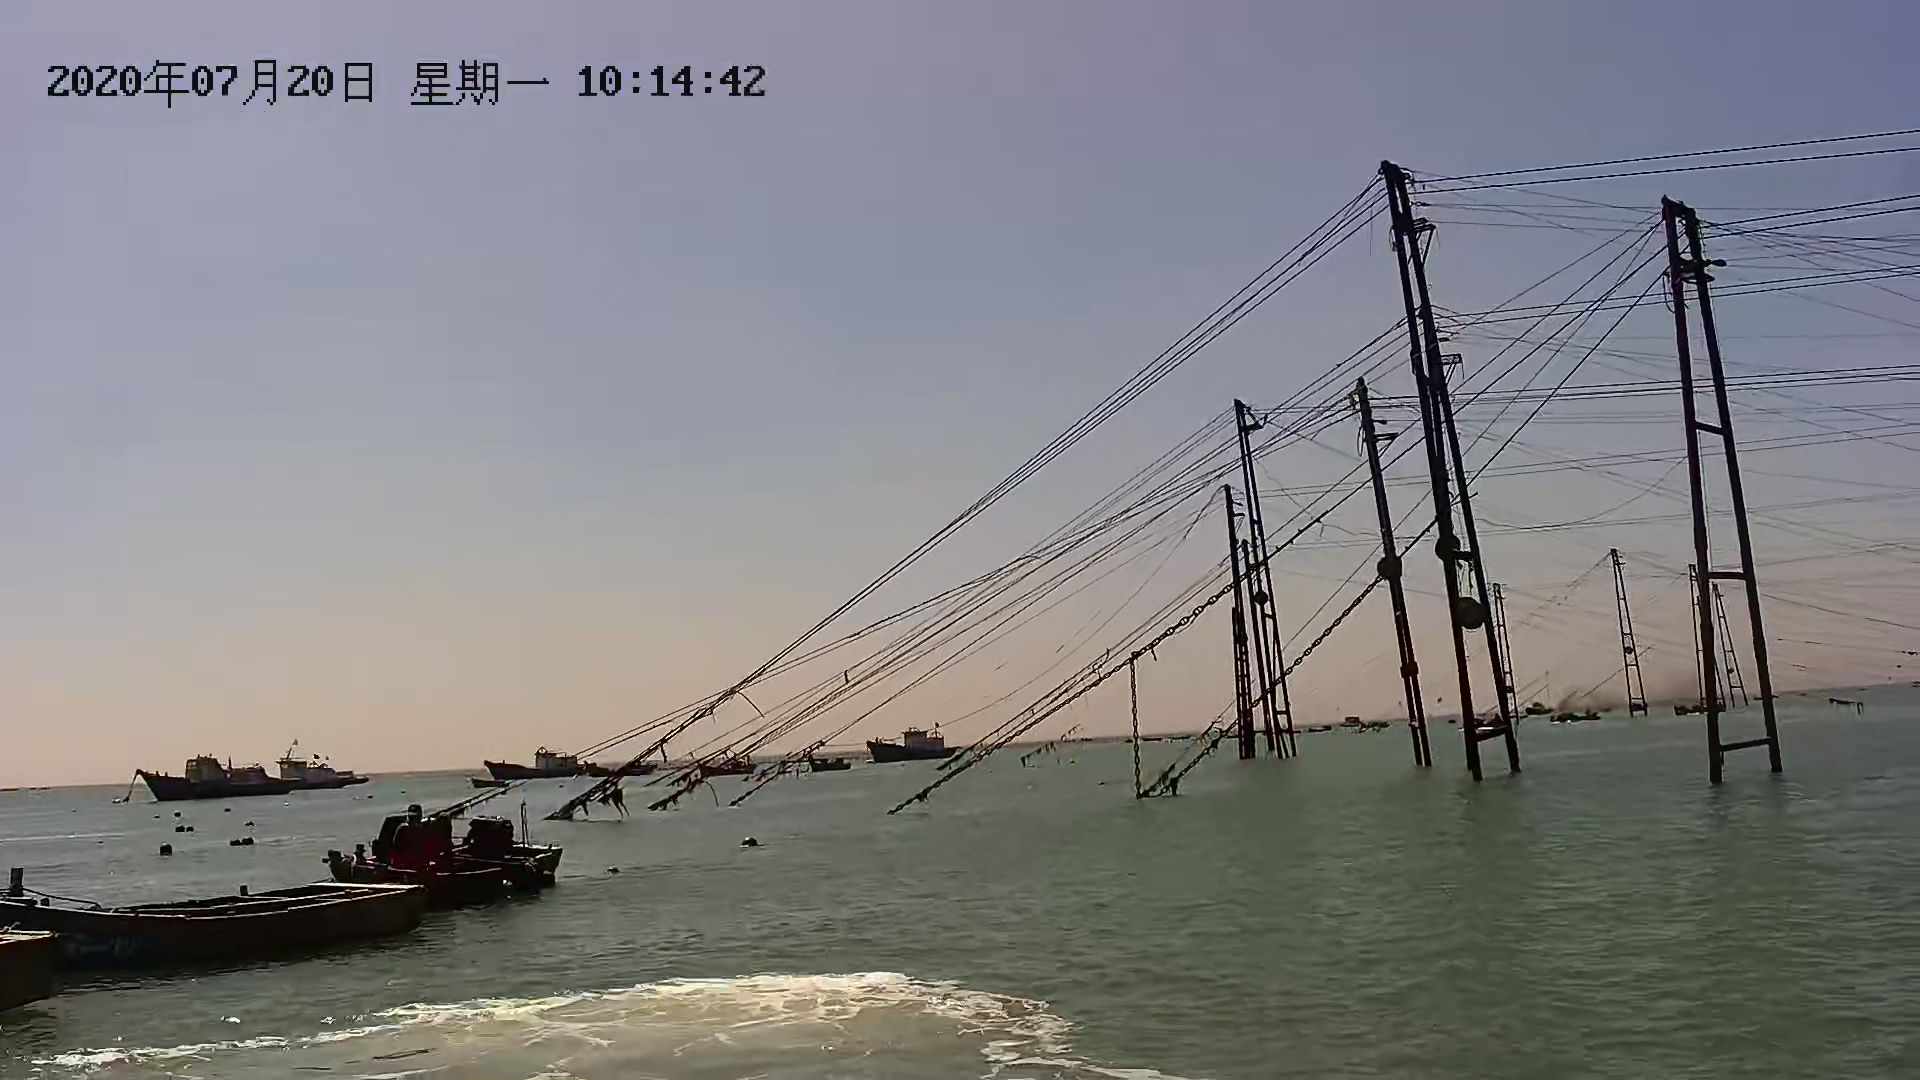boat: (1, 837, 425, 955), (334, 823, 564, 911)
mast: (1374, 158, 1528, 789), (1658, 196, 1785, 789), (1350, 382, 1443, 777), (1236, 402, 1305, 764), (1215, 484, 1265, 767), (1126, 663, 1145, 804)
ship: (121, 750, 282, 802), (258, 745, 364, 789), (858, 723, 963, 761), (491, 746, 595, 781)
